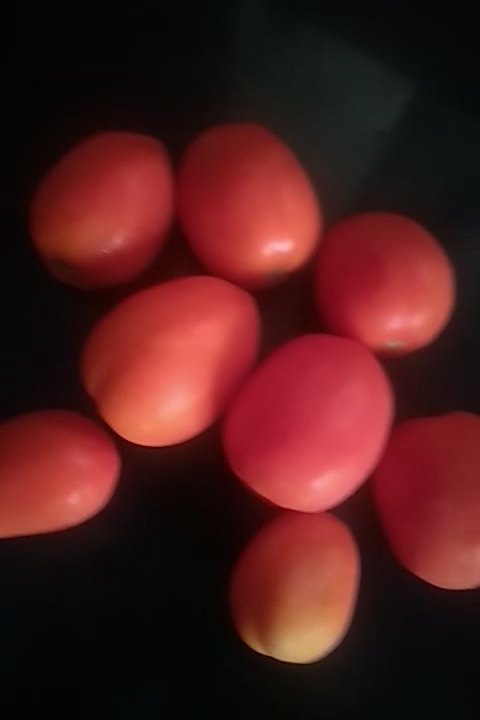tomato: (94, 281, 266, 443), (230, 332, 388, 508), (175, 119, 327, 292), (33, 136, 182, 299), (223, 516, 366, 663), (317, 206, 449, 361), (374, 413, 480, 600), (1, 418, 123, 546)
